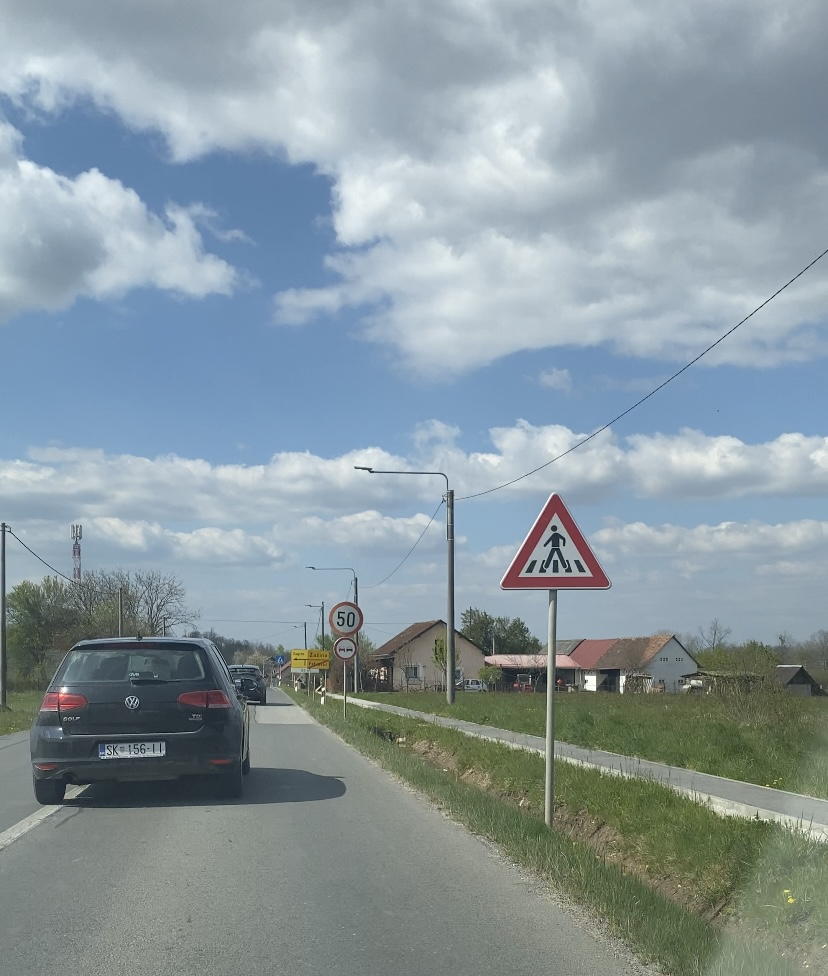Ograničenje brzine 50: (329, 601, 363, 636)
Približavanje pješačkom prijelazu: (499, 491, 611, 589)
Zabrana pretjecanja: (333, 636, 357, 661)
